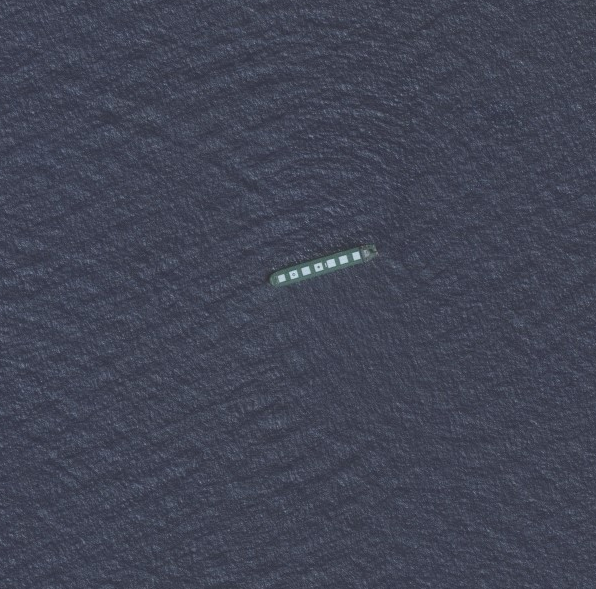ship: (260, 238, 384, 293)
